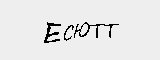Е: (42, 22, 62, 47)
С: (62, 22, 76, 43)
Т: (101, 21, 119, 41), (88, 20, 104, 40)
Ю: (72, 21, 90, 41)
